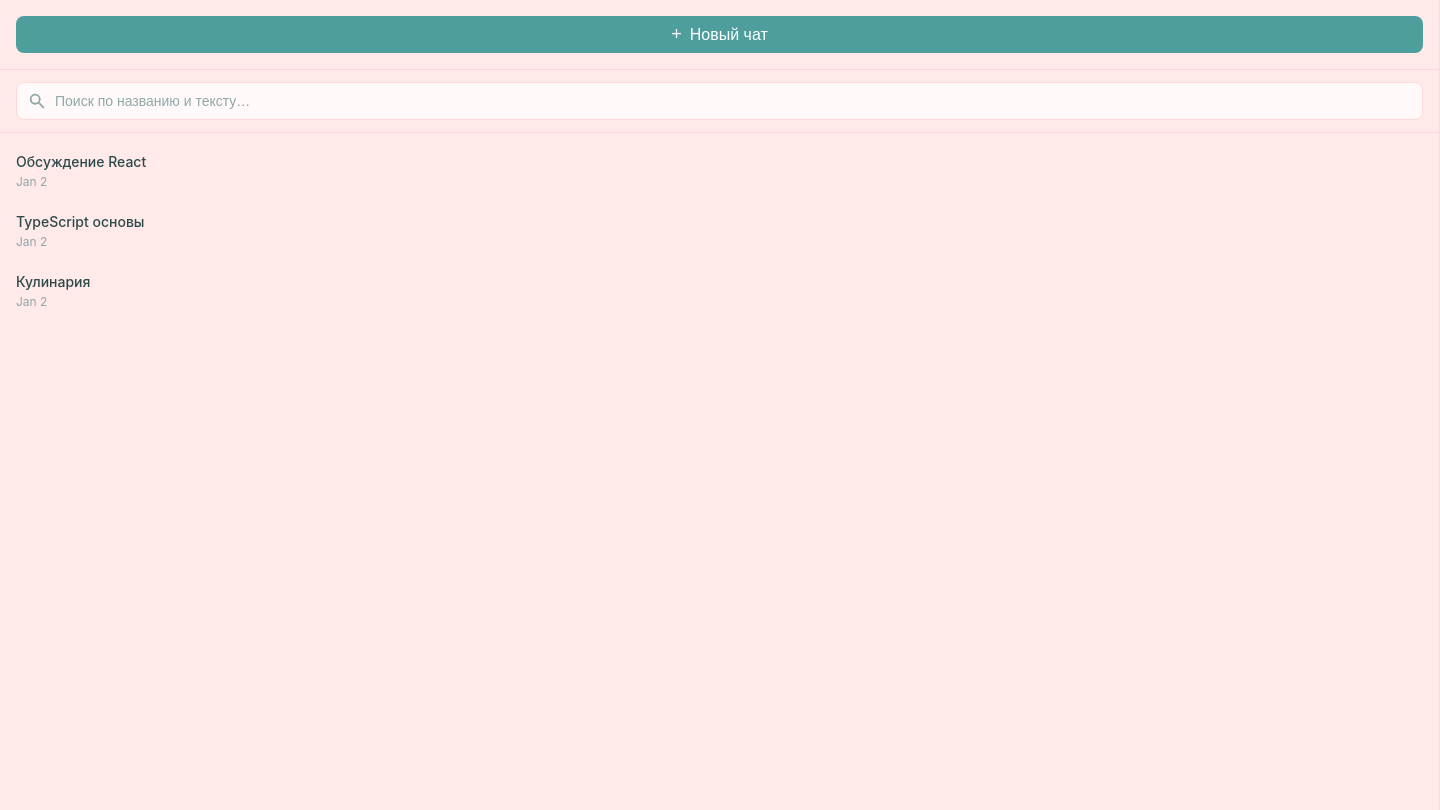
Test: Sidebar › поиск фильтрует список по названию
Step 1. Type "React" into the field named "поиск чатов" → (720, 101), box [16,82,1423,120]
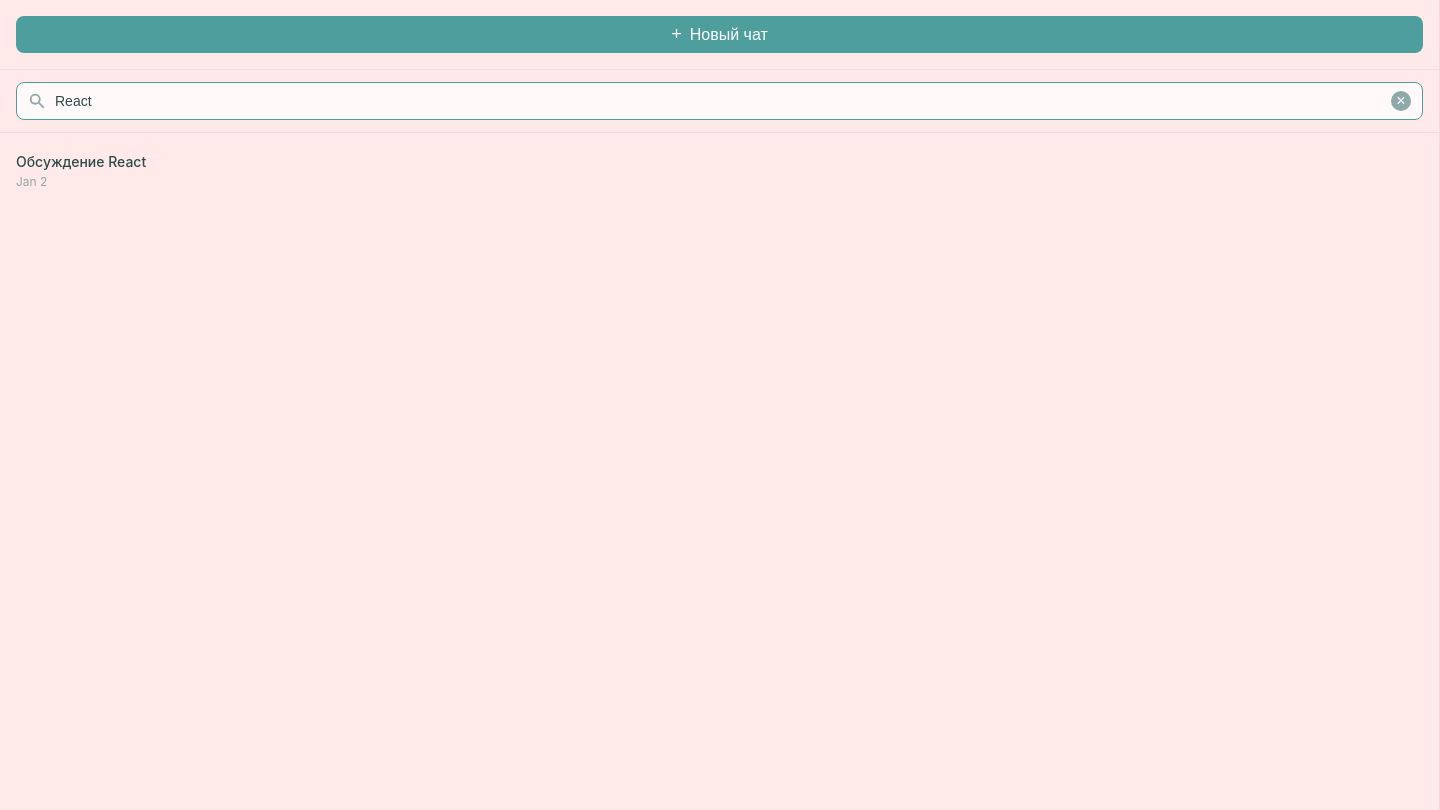
Expected: the text "Обсуждение React" is shown, [16,153,146,170]
Now the text "TypeScript основы" is gone
Now the text "Кулинария" is gone
